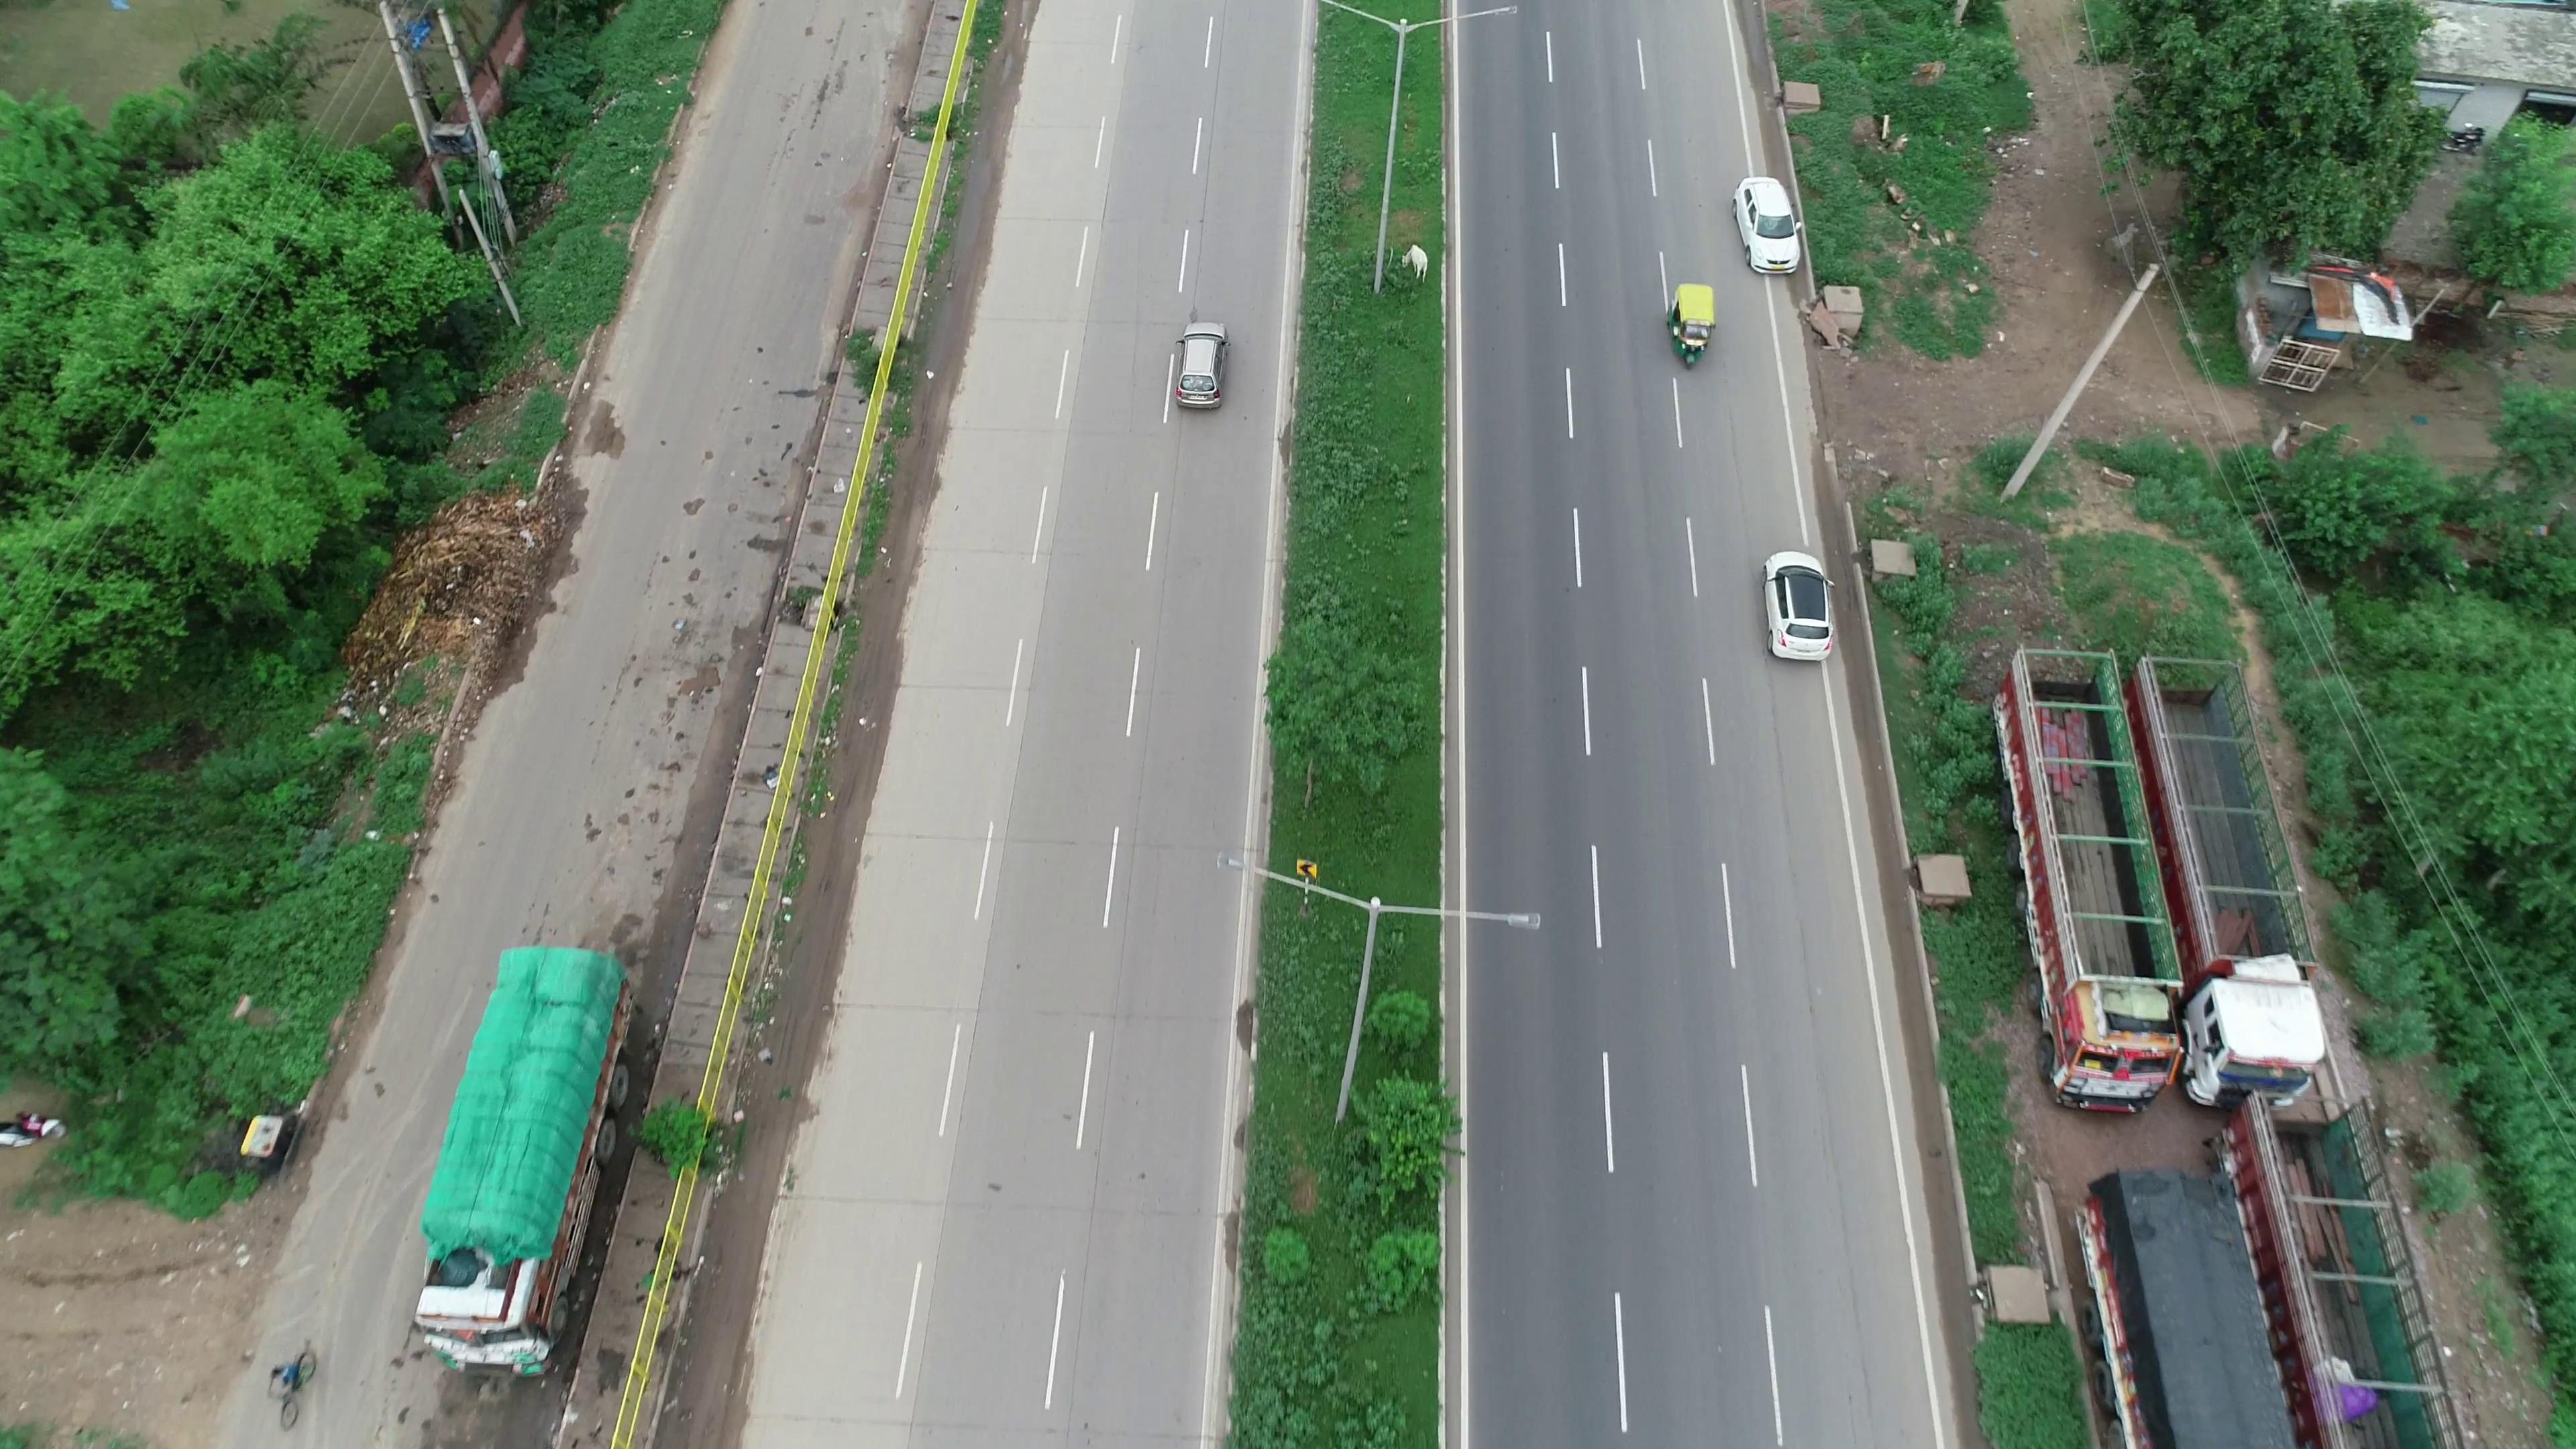Muddy_road: (755, 853, 842, 1092)
